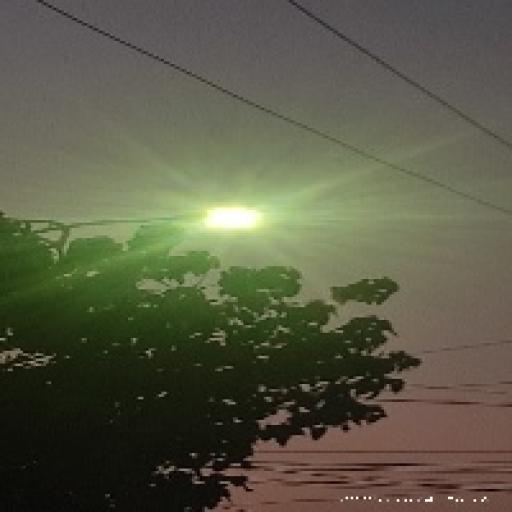Working: (190, 194, 279, 250)
